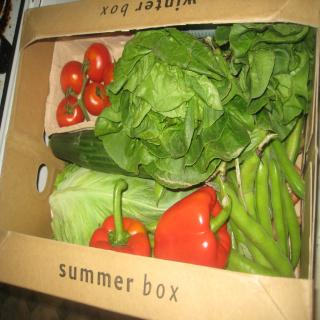tomato: (77, 43, 113, 84), (62, 57, 90, 99), (82, 82, 114, 114), (54, 96, 84, 125), (104, 62, 118, 84)
